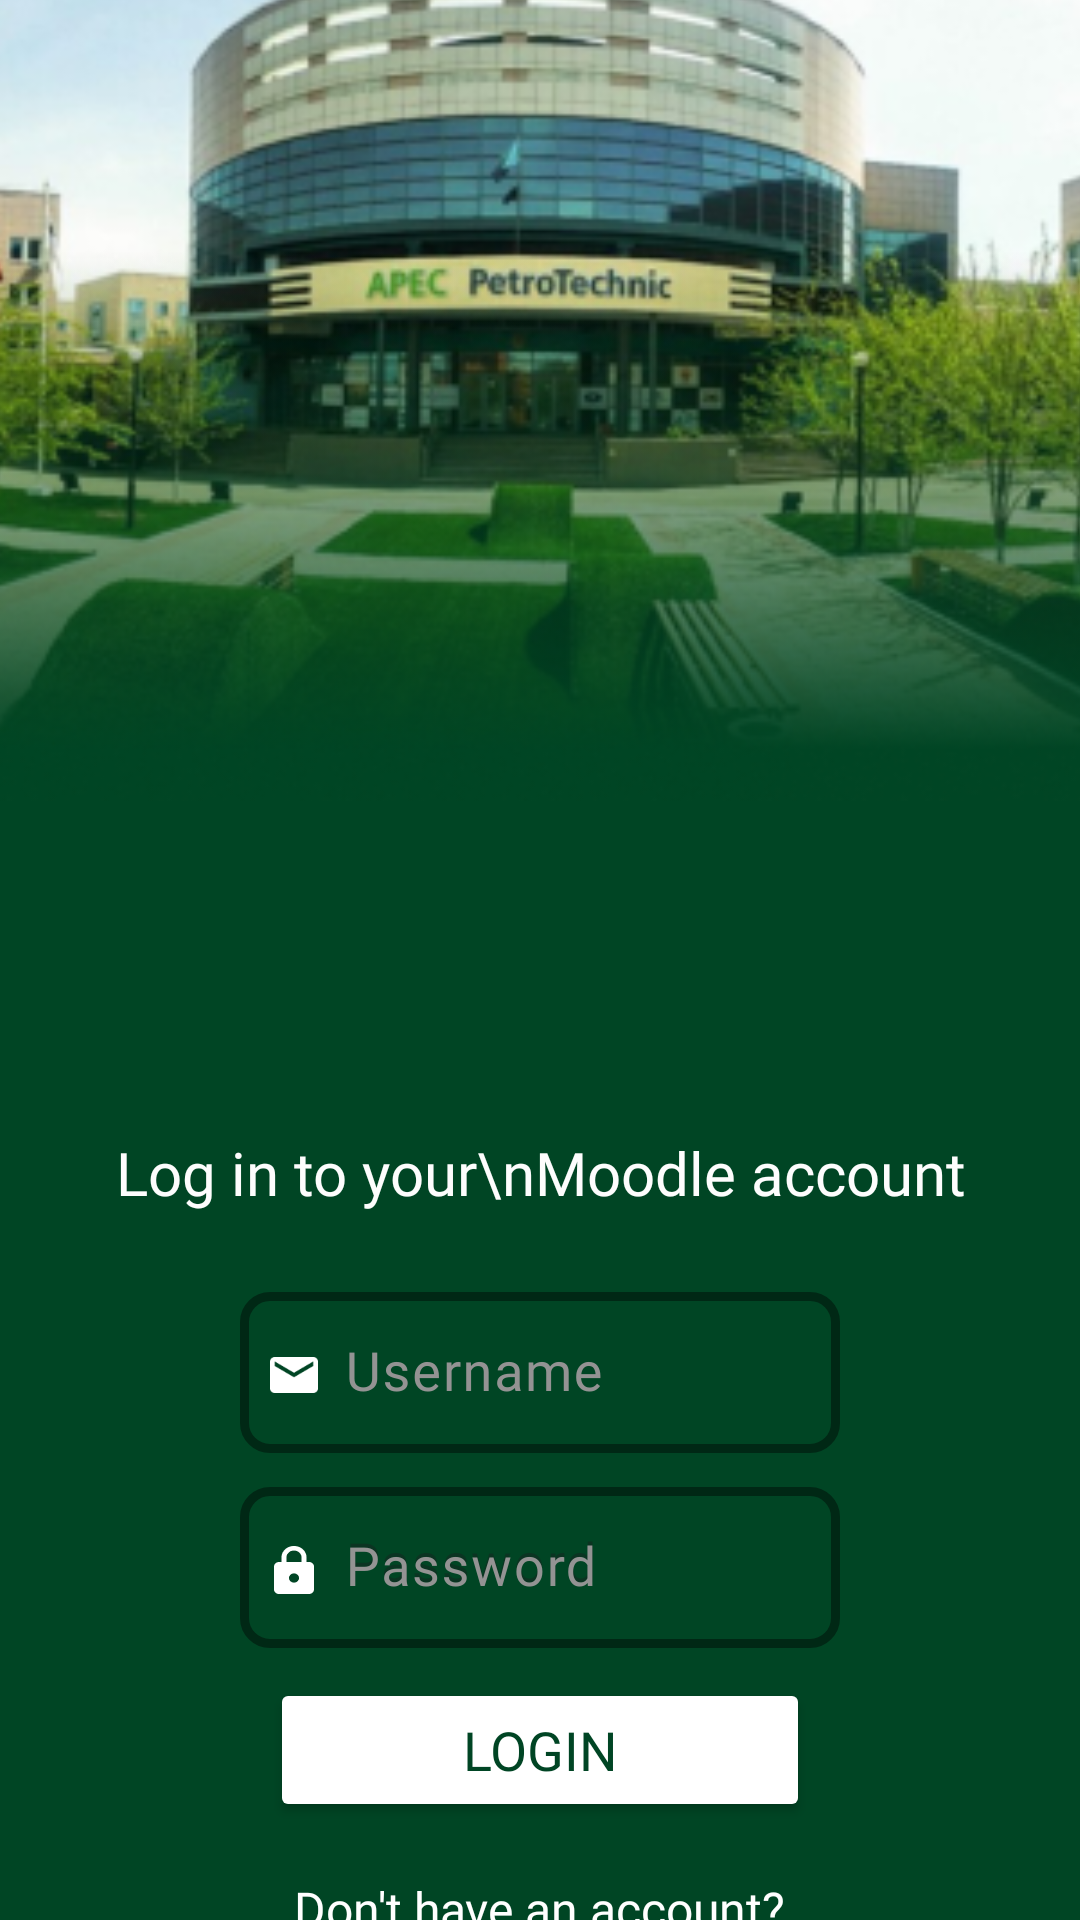

Icons on this 1080*1920 Android screen, each with the point to tap as (x,y):
email: (294,1375)
